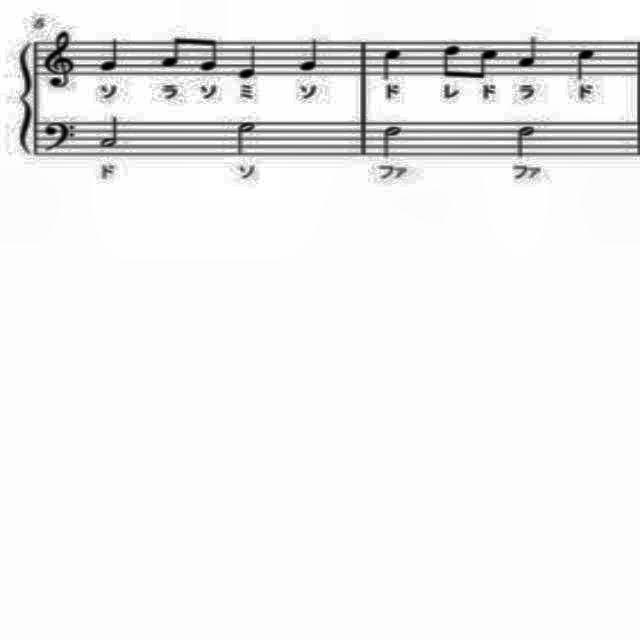Bass-clef: (39, 118, 81, 154)
Eighth-note: (157, 32, 187, 72), (438, 40, 467, 80), (194, 34, 222, 74), (476, 42, 504, 82)
Half-note: (380, 121, 408, 162), (96, 112, 124, 152), (234, 114, 258, 158), (513, 120, 539, 160)
Quarter-note: (295, 36, 325, 78), (236, 41, 264, 83), (379, 44, 407, 84), (516, 34, 544, 74), (95, 40, 125, 72), (576, 45, 596, 83)
Treble-clef: (40, 28, 80, 92)
